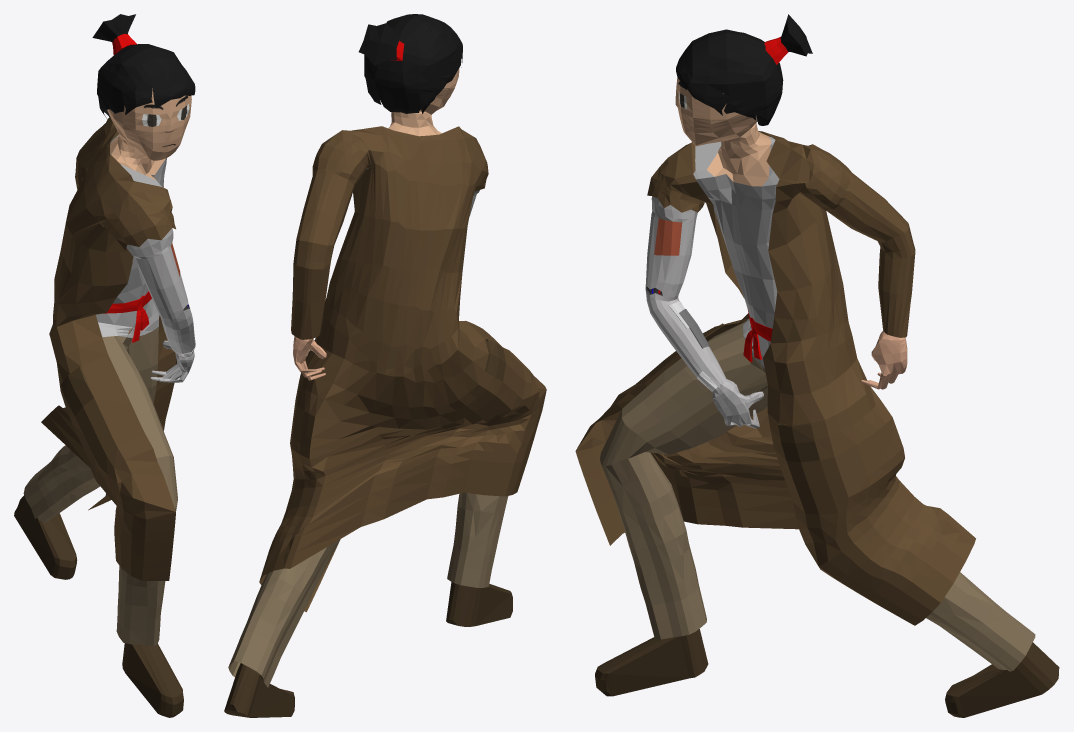
The model's file is OneAnimationTest_000020.obj.
3 renders of one model, left to right at view 1: azimuth 30°, elevation 25°; view 2: azimuth 150°, elevation 25°; view 3: azimuth 270°, elevation 25°, orthographic. The views are drawn at different scales.
Parts seen in each view (by area): view 1: Jacket_Cube, Body_Cube.003, Hair_Cube.004; view 2: Jacket_Cube, Body_Cube.003, Hair_Cube.004; view 3: Jacket_Cube, Body_Cube.003, Hair_Cube.004.
Boxes of the visible parts, bbox=[...] form: Jacket_Cube: bbox=[41, 117, 177, 580]; Body_Cube.003: bbox=[14, 88, 195, 717]; Hair_Cube.004: bbox=[92, 14, 195, 118]; Jacket_Cube: bbox=[259, 126, 546, 612]; Body_Cube.003: bbox=[224, 68, 512, 717]; Hair_Cube.004: bbox=[358, 14, 462, 113]; Jacket_Cube: bbox=[575, 131, 975, 625]; Body_Cube.003: bbox=[595, 77, 1059, 717]; Hair_Cube.004: bbox=[676, 14, 812, 125].
Size of the model in its own units: 0.8985 by 3.64 by 2.31.
